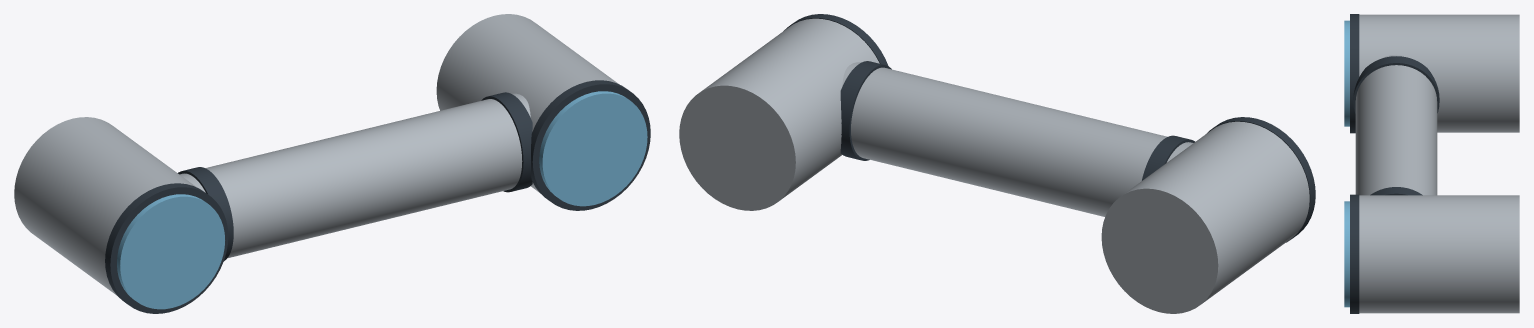
File: upper_arm_link.obj
The picture shows the model from 3 angles, left to right: view 1: azimuth 30°, elevation 25°; view 2: azimuth 150°, elevation 25°; view 3: azimuth 270°, elevation 25°; orthographic projection. The views are drawn at different scales.
Visible parts, largest first — view 1: upper_tube, joint_1, joint_0, cap_0, cap_1, joint_ring_1, joint_ring_0, tube_collar_0, tube_collar_1; view 2: upper_tube, joint_1, joint_0, tube_collar_0, joint_ring_1, tube_collar_1, joint_ring_0; view 3: joint_0, joint_1, upper_tube, joint_ring_0, tube_collar_1, joint_ring_1, cap_0, cap_1, tube_collar_0.
Part boxes in pixels (x1=…): upper_tube: x1=179, y1=93, x2=530, y2=258; joint_1: x1=14, y1=117, x2=196, y2=295; joint_0: x1=436, y1=14, x2=619, y2=191; cap_0: x1=539, y1=91, x2=647, y2=206; cap_1: x1=117, y1=194, x2=224, y2=309; joint_ring_1: x1=105, y1=183, x2=228, y2=313; joint_ring_0: x1=531, y1=80, x2=650, y2=210; tube_collar_0: x1=481, y1=92, x2=532, y2=192; tube_collar_1: x1=178, y1=167, x2=233, y2=260; upper_tube: x1=842, y1=62, x2=1193, y2=216; joint_1: x1=1101, y1=121, x2=1309, y2=313; joint_0: x1=679, y1=18, x2=879, y2=210; tube_collar_0: x1=840, y1=61, x2=891, y2=160; joint_ring_1: x1=1207, y1=117, x2=1315, y2=242; tube_collar_1: x1=1142, y1=135, x2=1195, y2=180; joint_ring_0: x1=784, y1=14, x2=888, y2=66; joint_0: x1=1359, y1=195, x2=1519, y2=313; joint_1: x1=1359, y1=14, x2=1519, y2=132; upper_tube: x1=1355, y1=54, x2=1437, y2=195; joint_ring_0: x1=1350, y1=194, x2=1359, y2=313; tube_collar_1: x1=1353, y1=56, x2=1439, y2=113; joint_ring_1: x1=1350, y1=14, x2=1359, y2=133; cap_0: x1=1344, y1=201, x2=1349, y2=307; cap_1: x1=1344, y1=20, x2=1349, y2=126; tube_collar_0: x1=1370, y1=187, x2=1422, y2=195.
Bounding box in the file's own units: 0.815 × 0.178 × 0.2615.
